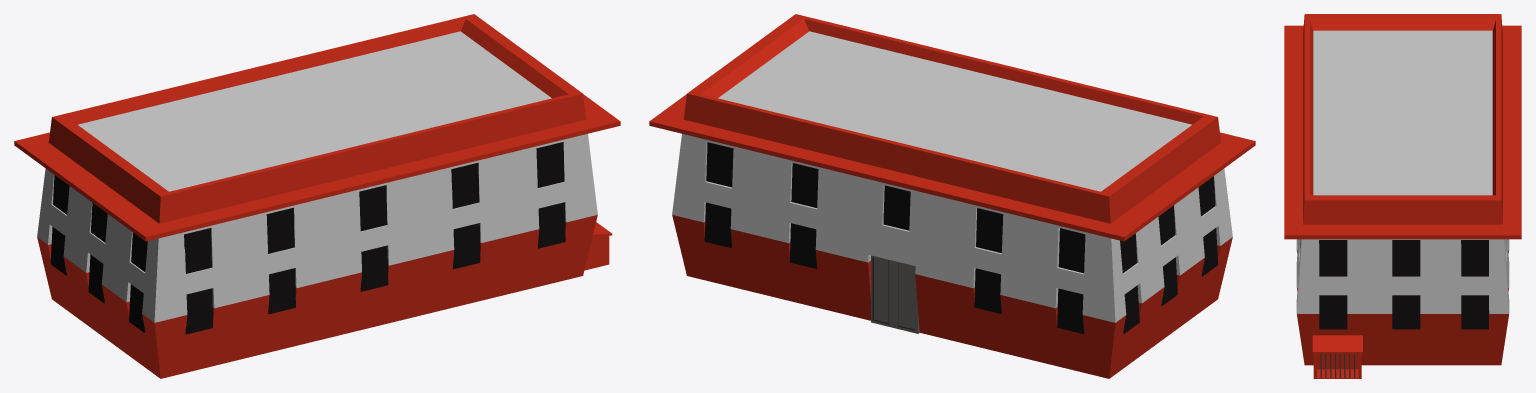
3 views of the same model, side by side, from view 1: azimuth 30°, elevation 25°; view 2: azimuth 150°, elevation 25°; view 3: azimuth 270°, elevation 25° (orthographic). The views are drawn at different scales.
Parts seen in each view (by area): view 1: Cube004; view 2: Cube004; view 3: Cube004.
Part boxes in pixels (left/top/right/bottom): Cube004: left=14, top=14, right=620, bottom=378; Cube004: left=649, top=14, right=1255, bottom=378; Cube004: left=1284, top=14, right=1521, bottom=378.
Size of the model in its own units: 13.24 by 4.79 by 6.25.
